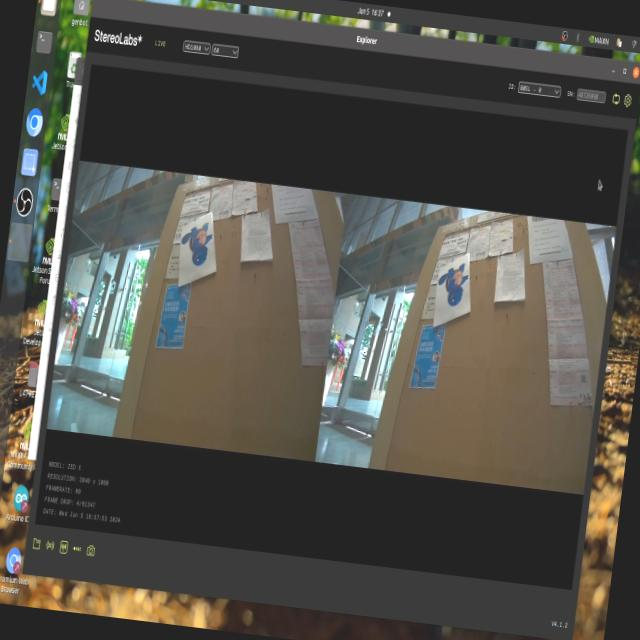blue: (173, 222, 218, 272), (434, 262, 474, 312)
